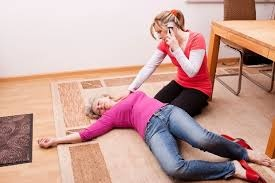falling: (26, 85, 275, 179)
